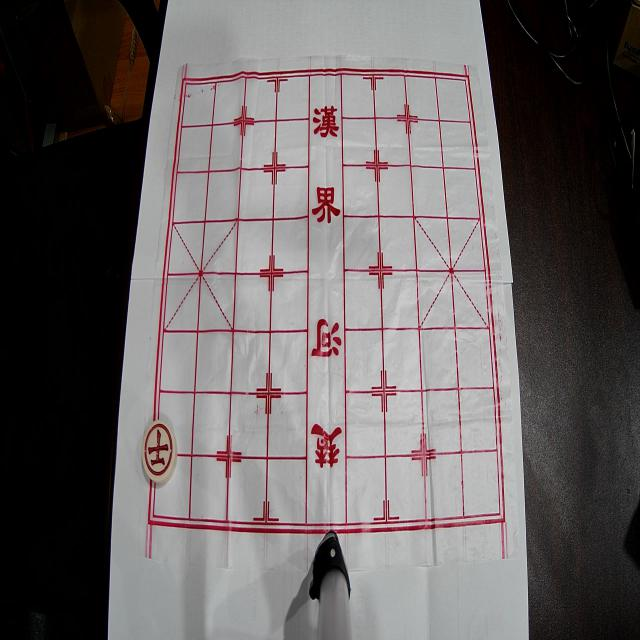red-advisor: (142, 420, 177, 484)
